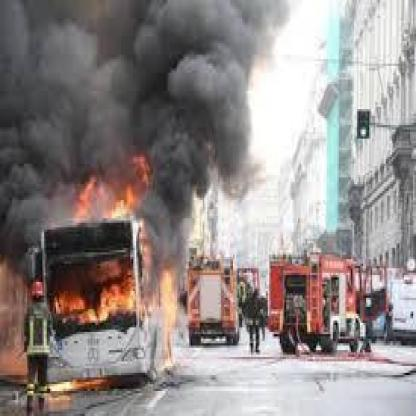fire: (4, 237, 214, 390), (60, 139, 152, 216)
smoke: (0, 0, 245, 225)
